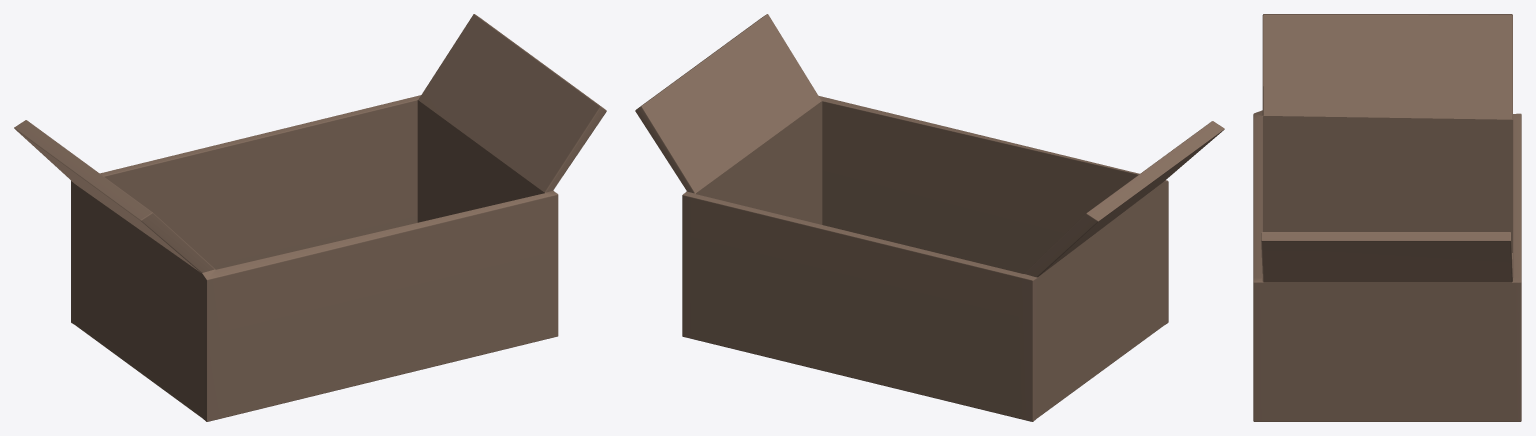
The model's file is PrizeBox.fbx.
The picture shows the model from 3 angles, left to right: view 1: azimuth 30°, elevation 25°; view 2: azimuth 150°, elevation 25°; view 3: azimuth 270°, elevation 25°; orthographic projection.
Visible parts, largest first — view 1: pCube1; view 2: pCube1; view 3: pCube1.
Part boxes in pixels (x1,y1,x2,y2): pCube1: (14, 14, 606, 421); pCube1: (635, 14, 1224, 421); pCube1: (1253, 14, 1521, 421).
Bounding box in the file's own units: 4.82 × 2.16 × 2.44.
